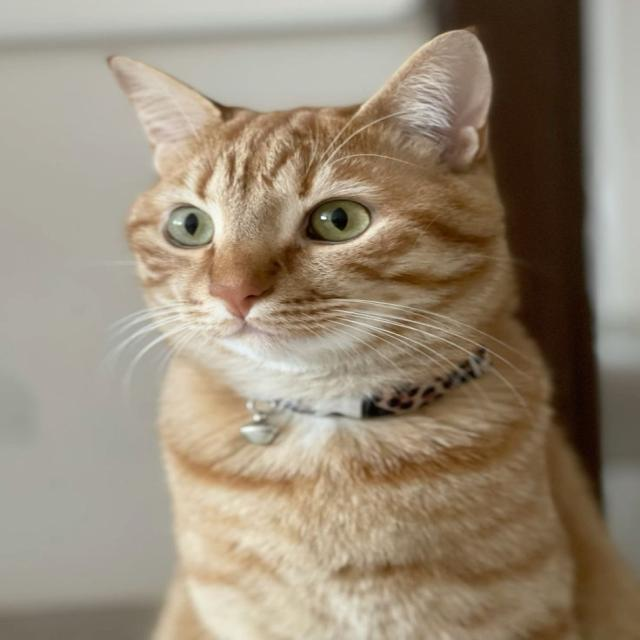sarman: (0, 58, 640, 565)
